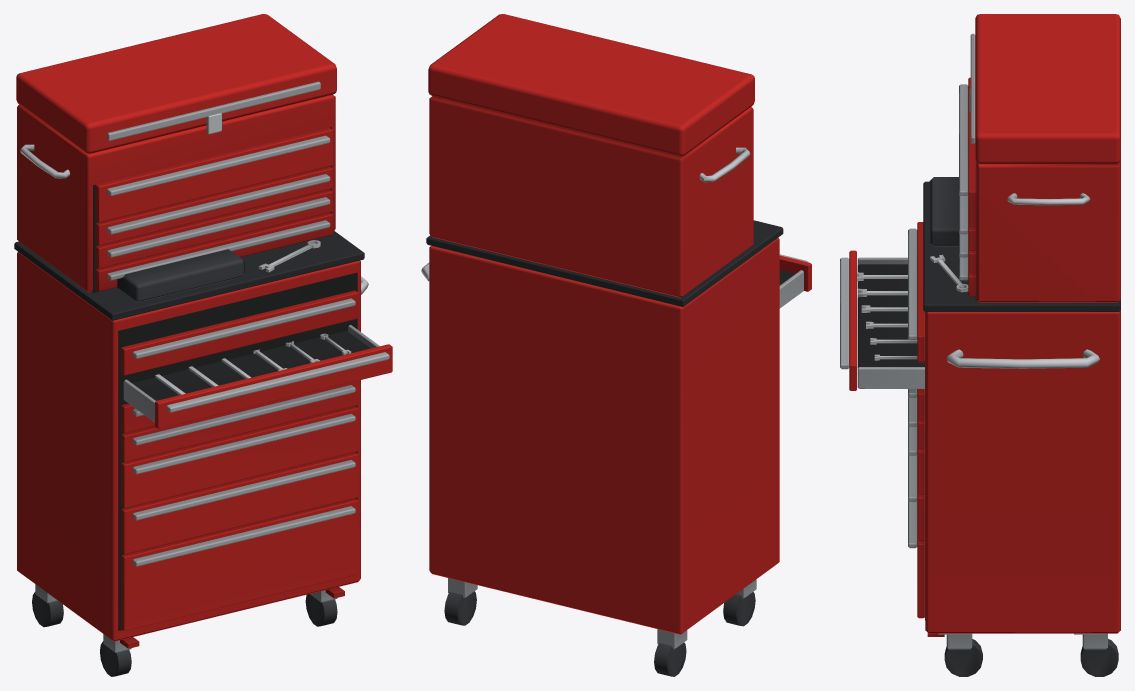
The model's file is toolChest.glb.
3 renders of one model, left to right at view 1: azimuth 30°, elevation 25°; view 2: azimuth 150°, elevation 25°; view 3: azimuth 270°, elevation 25°, orthographic.
Parts seen in each view (by area): view 1: toolChest; view 2: toolChest; view 3: toolChest.
Boxes of the visible parts, <box> form: toolChest: <box>14,14,392,676</box>; toolChest: <box>421,14,811,676</box>; toolChest: <box>840,14,1120,676</box>.
Bounding box in the file's own units: 0.79 × 1.43 × 0.661.
